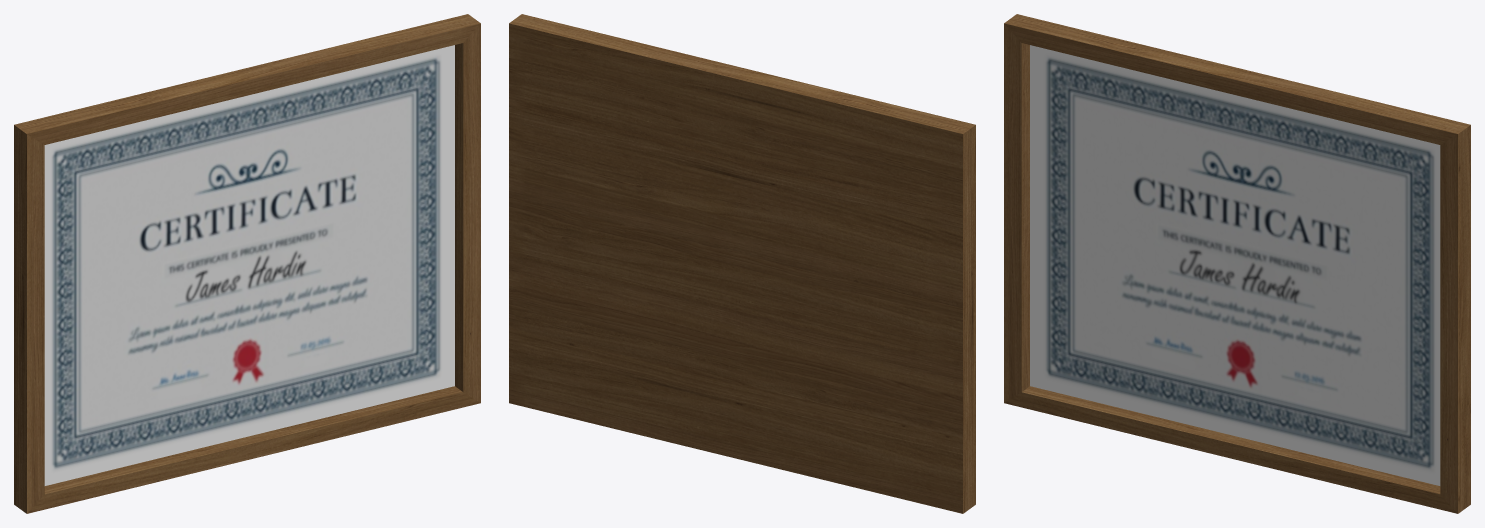
File: Certificate 4.FBX
3 renders of one model, left to right at view 1: azimuth 30°, elevation 25°; view 2: azimuth 150°, elevation 25°; view 3: azimuth 330°, elevation 25°, orthographic.
Visible parts, largest first — view 1: Certificate 4; view 2: Certificate 4; view 3: Certificate 4.
Part boxes in pixels (x1,y1,x2,y2): Certificate 4: (14,14,480,513); Certificate 4: (509,14,975,513); Certificate 4: (1004,14,1470,513).
Size of the model in its own units: 46.61 by 37.25 by 2.29.
1 material, 1 textured.
